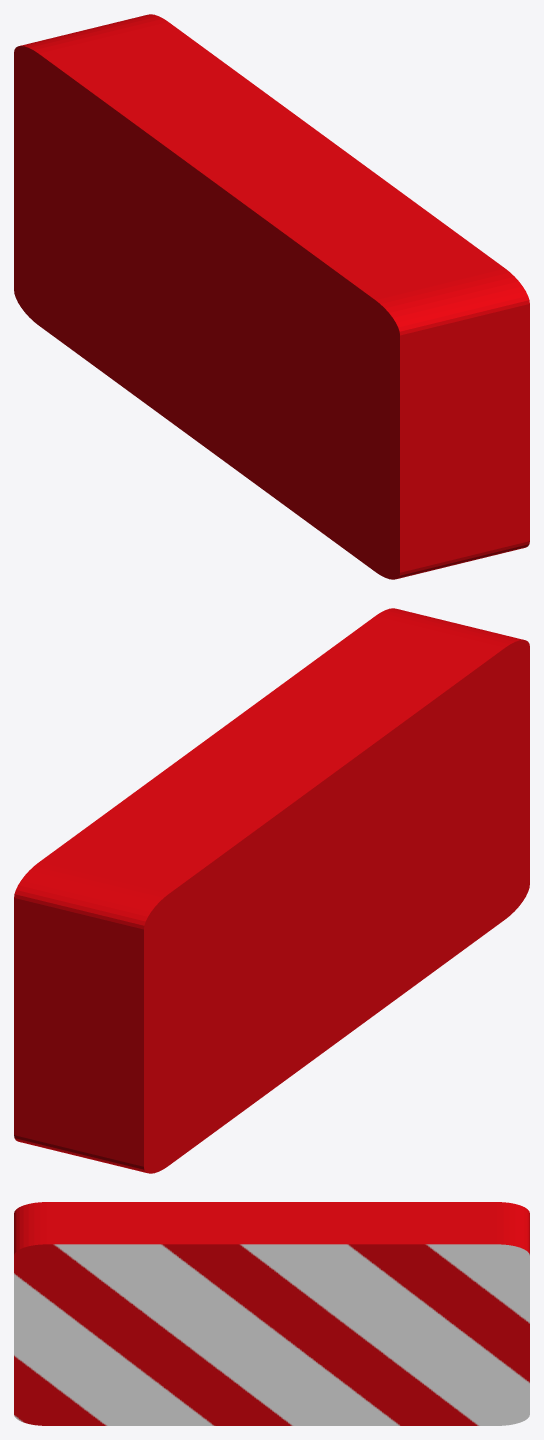
The model's file is Brick middle.fbx.
3 views of the same model, one above another, from view 1: azimuth 30°, elevation 25°; view 2: azimuth 150°, elevation 25°; view 3: azimuth 270°, elevation 25° (orthographic). The views are drawn at different scales.
Parts seen in each view (by area): view 1: Cube; view 2: Cube; view 3: Cube.
Part boxes in pixels (x1=…): Cube: x1=14, y1=14, x2=529, y2=579; Cube: x1=14, y1=608, x2=529, y2=1173; Cube: x1=14, y1=1202, x2=529, y2=1425.
Size of the model in its own units: 268 by 536 by 1379.
2 materials, 1 textured.
